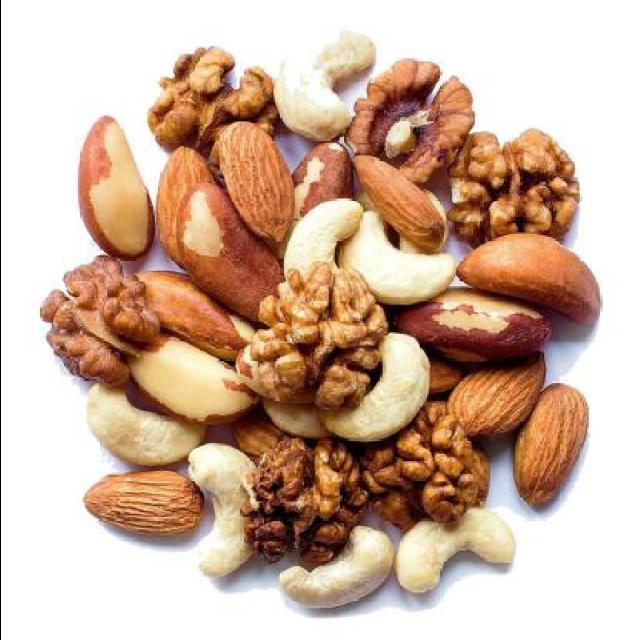Frutta secca: (58, 34, 600, 614)
